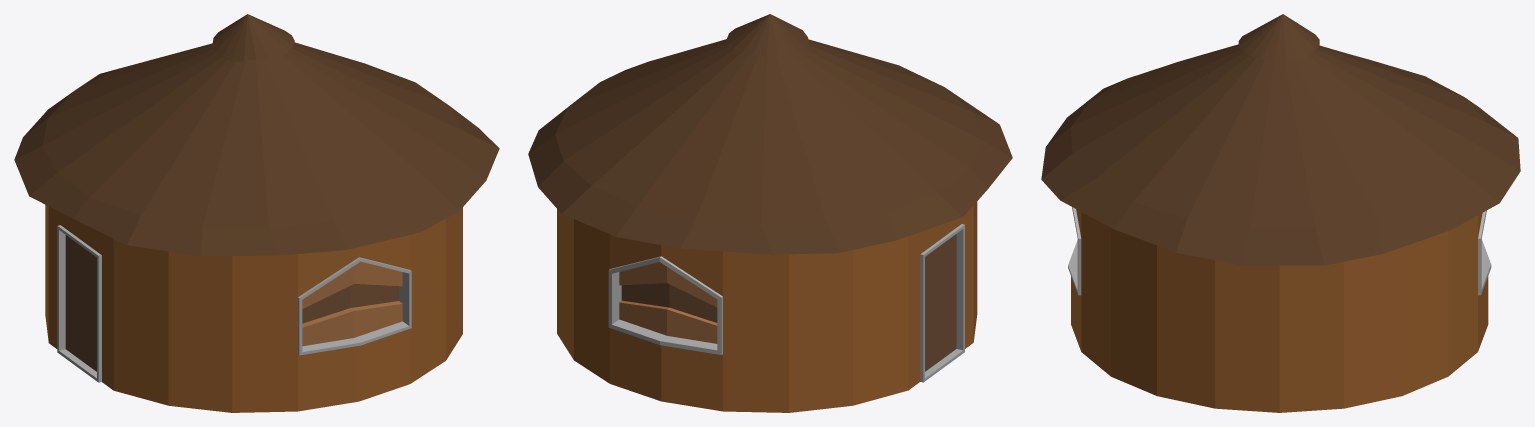
The model's file is Hut2.fbx.
3 views of the same model, side by side, from view 1: azimuth 30°, elevation 25°; view 2: azimuth 150°, elevation 25°; view 3: azimuth 270°, elevation 25° (orthographic).
Parts seen in each view (by area): view 1: Cone, Cylinder; view 2: Cone, Cylinder; view 3: Cone, Cylinder.
Boxes of the visible parts, left/top/right/bottom form: Cone: left=14, top=14, right=499, bottom=255; Cylinder: left=45, top=205, right=462, bottom=412; Cone: left=528, top=14, right=1012, bottom=254; Cylinder: left=557, top=201, right=977, bottom=412; Cone: left=1041, top=14, right=1520, bottom=265; Cylinder: left=1068, top=207, right=1491, bottom=412.
Bounding box in the file's own units: 2286 × 1632 × 2299.
